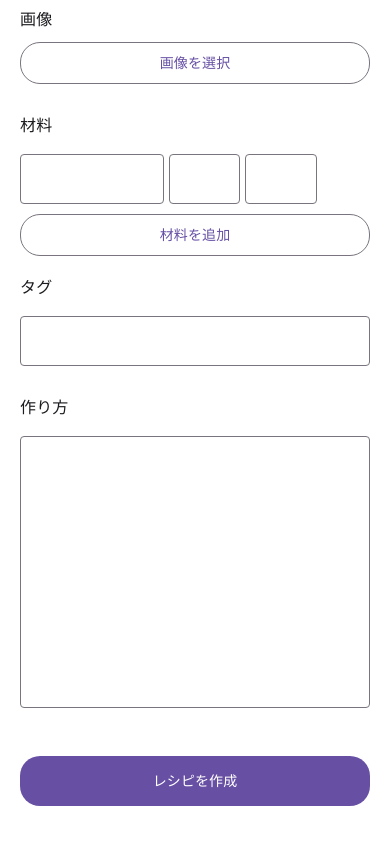
Scenario: レシピ作成画面 › レシピ作成処理 › レシピ名が空の場合、エラーメッセージを表示する
(page scrolled)
Note: レシピ作成ボタンをクリック（レシピ名は空）
Click the button "レシピを作成" at [195, 781], box [20,761,370,801]
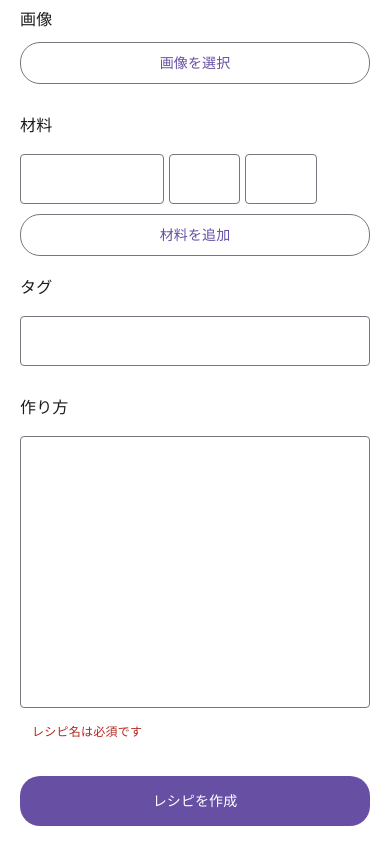
Expected: the text "レシピ名は必須です" is shown, [32,725,142,739]
